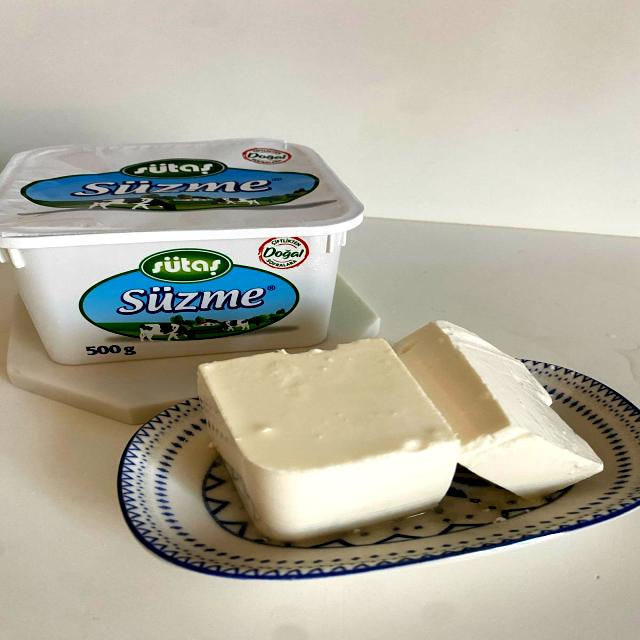cheese: (6, 138, 353, 359), (186, 343, 474, 536), (398, 317, 614, 500)
